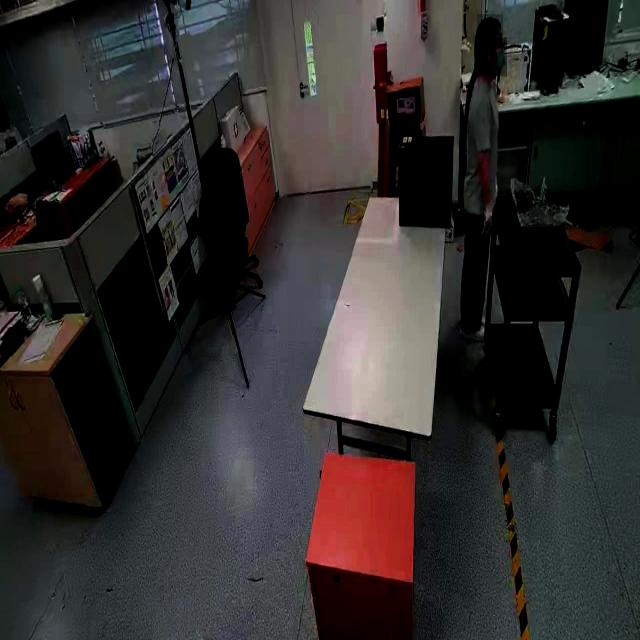face_mask: (489, 38, 507, 78)
hand_glove: (479, 200, 495, 239)
head_nohelmet: (477, 14, 503, 36)
person: (455, 11, 505, 353)
